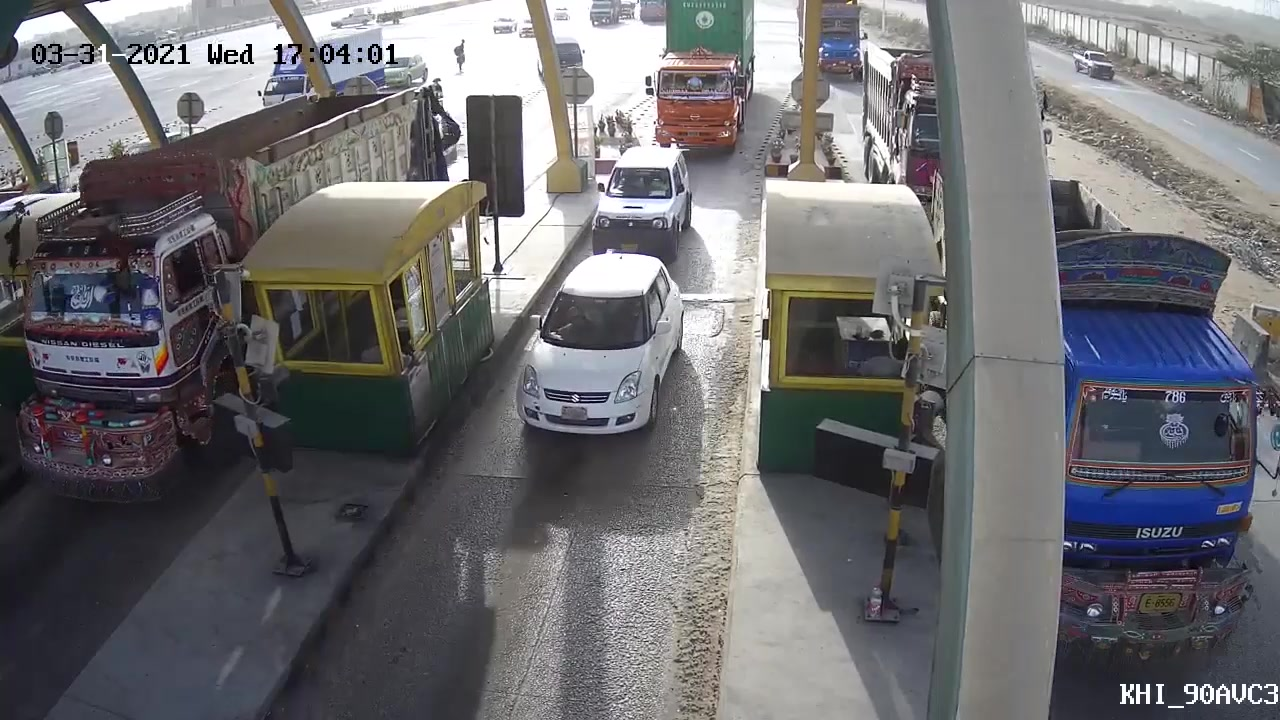F1: (509, 248, 687, 446), (590, 142, 694, 259)
